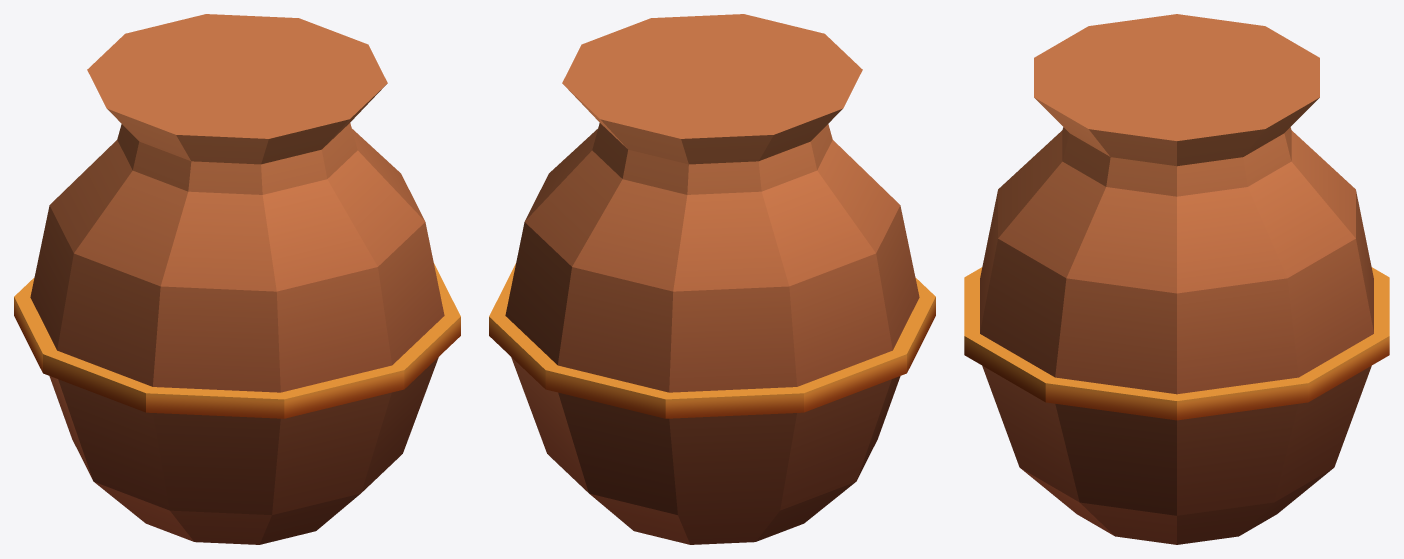
Rendered from PlayGround_Kit_Clay_Pot.fbx.
3 views of the same model, side by side, from view 1: azimuth 30°, elevation 25°; view 2: azimuth 150°, elevation 25°; view 3: azimuth 270°, elevation 25° (orthographic).
Parts seen in each view (by area): view 1: PlayGround_Kit_Clay_Pot; view 2: PlayGround_Kit_Clay_Pot; view 3: PlayGround_Kit_Clay_Pot.
Boxes of the visible parts, x1=… form: PlayGround_Kit_Clay_Pot: x1=14, y1=14, x2=460, y2=544; PlayGround_Kit_Clay_Pot: x1=489, y1=14, x2=935, y2=544; PlayGround_Kit_Clay_Pot: x1=964, y1=14, x2=1389, y2=544.
Size of the model in its own units: 0.5943 by 0.62 by 0.5652.
